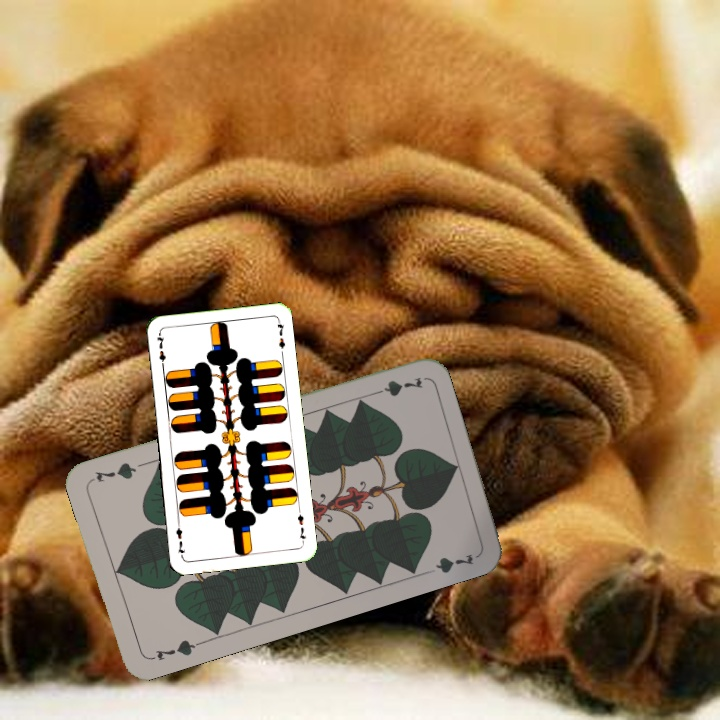E7: (153, 331, 168, 371), (293, 505, 308, 545)
G7: (145, 635, 203, 664), (366, 372, 425, 399)
